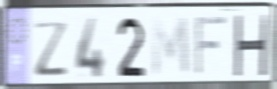2: (115, 16, 146, 80)
4: (73, 15, 109, 82)
F: (193, 14, 229, 79)
H: (232, 13, 270, 78)
M: (150, 15, 192, 79)
Z: (32, 20, 71, 78)
